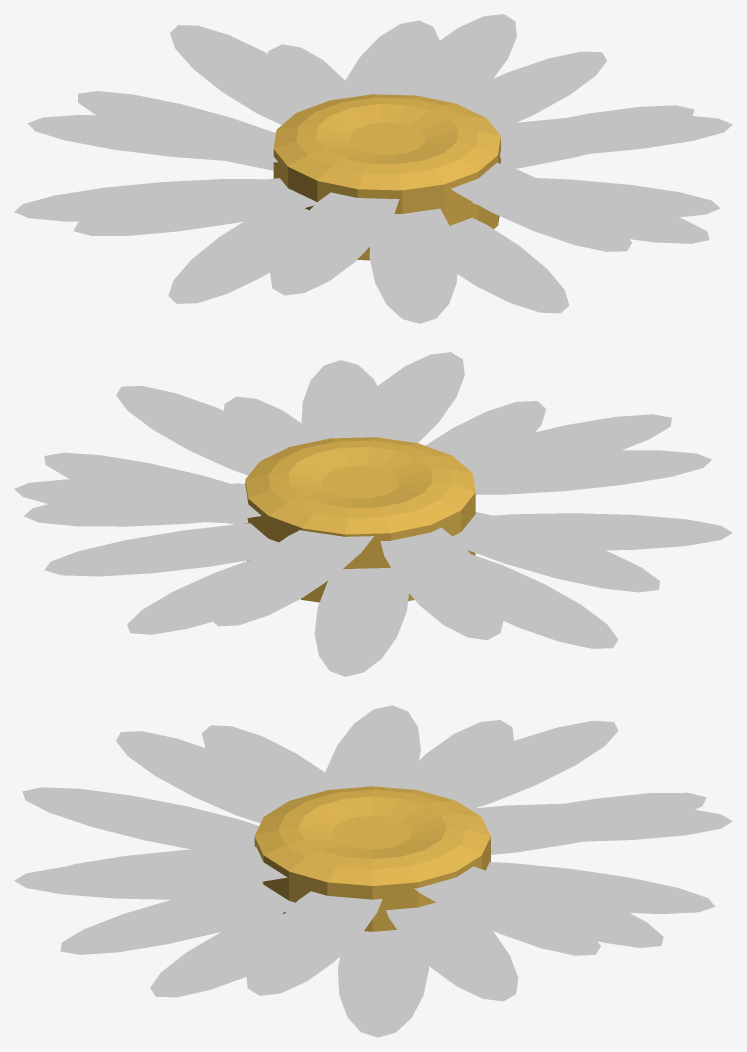
The model's file is FlowerIndicator.fbx.
3 renders of one model, top to bottom at view 1: azimuth 30°, elevation 25°; view 2: azimuth 150°, elevation 25°; view 3: azimuth 270°, elevation 25°, orthographic. The views are drawn at different scales.
Visible parts, largest first — view 1: Flower; view 2: Flower; view 3: Flower.
Boxes of the visible parts, x1,y1,x2,y2 form: Flower: (14, 14, 732, 323); Flower: (14, 352, 732, 676); Flower: (14, 705, 732, 1037).
Bounding box in the file's own units: 73.16 × 8.89 × 71.18.
